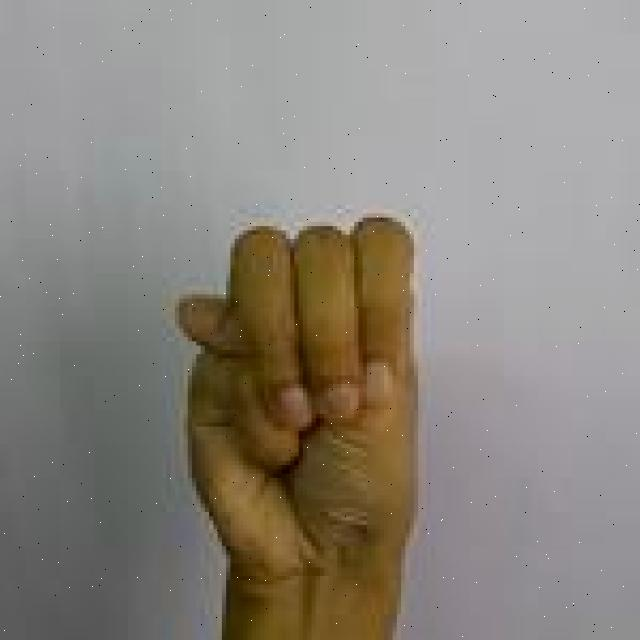M: (169, 212, 428, 640)
